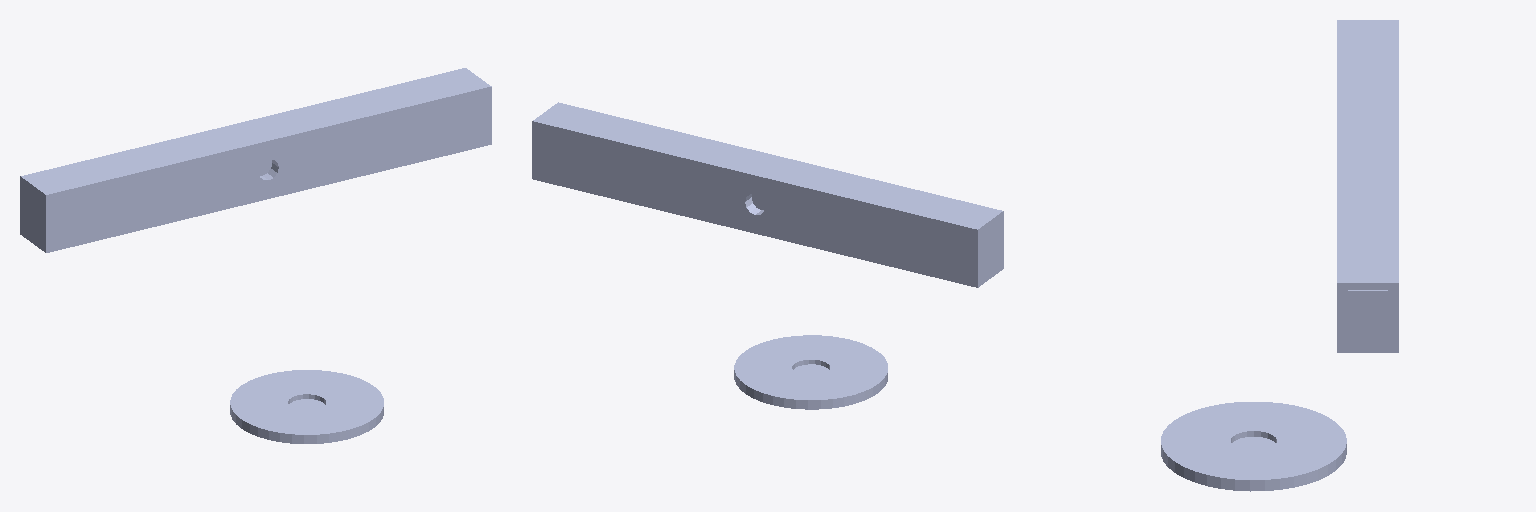
URDF robot description (my_robot):
<?xml version="1.0" encoding="utf-8"?>
<!-- This URDF was automatically created by SolidWorks to URDF Exporter! Originally created by Stephen Brawner (brawner@gmail.com) 
     Commit Version: 1.6.0-4-g7f85cfe  Build Version: 1.6.7995.38578
     For more information, please see http://wiki.ros.org/sw_urdf_exporter -->
<robot
  name="my_robot">
  <link
    name="base_link">

    <inertial>
      <origin xyz="5.16568556503433E-19 -4.60458746952657E-19 0.0" rpy="0 0 0" />
      <mass value="1.3695380474243" />
      <inertia
        ixx="0.00798224048922843"
        ixy="4.24520119437051E-20"
        ixz="3.85170665636634E-19"
        iyy="0.00798224048922843"
        iyz="-1.06545471371995E-18"
        izz="0.0158732496978437" />
    </inertial>

    <visual>
    <origin xyz="5.16568556503433E-19 -4.60458746952657E-19 0.0" rpy="0 0 0" />
      <geometry>
        <mesh filename="package://my_robot/meshes/base_link.STL" />
      </geometry>
      <material name="">
        <color rgba="0.792156862745098 0.819607843137255 0.933333333333333 1" />
      </material>
    </visual>

    <collision>
      <origin xyz="-0.17002715 -0.0709803 0.0" rpy="0 0 1.918018211259047" />
      <geometry>
        <mesh filename="package://my_robot/meshes/base_link.STL" />
      </geometry>
    </collision>

  </link>
  <link
    name="joint_1_link">

    <inertial>
      <origin xyz="-5.86783648976754E-17 -1.53295226370267E-18 0.318424334676381" rpy="0 0 0" />
      <mass value="2.74003858179814" />
      <inertia
        ixx="0.0777624850691793"
        ixy="-1.16823868514941E-18"
        ixz="1.5229497463543E-17"
        iyy="0.0748440805695645"
        iyz="5.63329203182507E-19"
        izz="0.00578039173555455" />
    </inertial>

    <visual>
      <origin
        xyz="0 0 0"
        rpy="0 0 0" />
      <geometry>
        <mesh filename="package://my_robot/meshes/joint_1_link.STL" />
      </geometry>
      <material
        name="">
        <color rgba="0.792156862745098 0.819607843137255 0.933333333333333 1" />
      </material>
    </visual>

    <collision>
      <origin
        xyz="0 0 0"
        rpy="0 0 0" />
      <geometry>
        <mesh
          filename="package://my_robot/meshes/joint_1_link.STL" />
      </geometry>
    </collision>
    
  </link>
  <joint
    name="joint_1_joint"
    type="revolute">
    <origin
      xyz="0 0 0"
      rpy="0 0 0" />
    <parent
      link="base_link" />
    <child
      link="joint_1_link" />
    <axis
      xyz="0 0 1" />
    <limit
      lower="0"
      upper="0"
      effort="0"
      velocity="0" />
  </joint>
  <link
    name="joint_2_link">
    <inertial>
      <origin
        xyz="-0.0794258655611035 -1.11022302462516E-15 -1.4598696371687E-15"
        rpy="0 0 0" />
      <mass
        value="9.82047843595601" />
      <inertia
        ixx="0.0234845916044865"
        ixy="-1.84453945201044E-16"
        ixz="-8.98849712331153E-17"
        iyy="0.720423041466822"
        iyz="-2.74191579692218E-18"
        izz="0.725137070966437" />
    </inertial>
    <visual>
      <origin
        xyz="0 0 0"
        rpy="0 0 0" />
      <geometry>
        <mesh
          filename="package://my_robot/meshes/joint_2_link.STL" />
      </geometry>
      <material
        name="">
        <color
          rgba="0.792156862745098 0.819607843137255 0.933333333333333 1" />
      </material>
    </visual>
    <collision>
      <origin
        xyz="0 0 0"
        rpy="0 0 0" />
      <geometry>
        <mesh
          filename="package://my_robot/meshes/joint_2_link.STL" />
      </geometry>
    </collision>
  </link>
  <joint
    name="joint_2_joint"
    type="revolute">
    <origin
      xyz="0 0 0.51"
      rpy="1.5708 0 0" />
    <parent
      link="joint_1_link" />
    <child
      link="joint_2_link" />
    <axis
      xyz="0 0 1" />
    <limit
      lower="0"
      upper="0"
      effort="0"
      velocity="0" />
  </joint>
  <link
    name="joint_3_link">
    <inertial>
      <origin
        xyz="-1.11022302462516E-16 -1.11009104039333E-14 0.2"
        rpy="0 0 0" />
      <mass
        value="2.6" />
      <inertia
        ixx="0.0355820833333333"
        ixy="-1.96360431846389E-20"
        ixz="-1.25004854084982E-17"
        iyy="0.0368333333333333"
        iyz="-9.60584348128384E-18"
        izz="0.00308208333333333" />
    </inertial>
    <visual>
      <origin
        xyz="0 0 0"
        rpy="0 0 0" />
      <geometry>
        <mesh
          filename="package://my_robot/meshes/joint_3_link.STL" />
      </geometry>
      <material
        name="">
        <color
          rgba="0.792156862745098 0.819607843137255 0.933333333333333 1" />
      </material>
    </visual>
    <collision>
      <origin
        xyz="0 0 0"
        rpy="0 0 0" />
      <geometry>
        <mesh
          filename="package://my_robot/meshes/joint_3_link.STL" />
      </geometry>
    </collision>
  </link>
  <joint
    name="joint_3_joint"
    type="prismatic">
    <origin
      xyz="0.1 0 0"
      rpy="1.5708 0 1.5708" />
    <parent
      link="joint_2_link" />
    <child
      link="joint_3_link" />
    <axis
      xyz="0 0 -1" />
    <limit
      lower="0"
      upper="0"
      effort="0"
      velocity="0" />
  </joint>
  <link
    name="ee_link">
    <inertial>
      <origin
        xyz="-0.0731948336829637 -1.12302996823185E-14 -0.5"
        rpy="0 0 0" />
      <mass
        value="16.5300550651784" />
      <inertia
        ixx="1.07361094137122"
        ixy="1.42421419252305E-16"
        ixz="2.18444017298924E-16"
        iyy="1.49535764239834"
        iyz="-1.11573144420206E-16"
        izz="0.466920142398336" />
    </inertial>
  </link>
  <joint
    name="ee_joint"
    type="fixed">
    <origin
      xyz="0 0 0.4"
      rpy="0 0 0" />
    <parent
      link="joint_3_link" />
    <child
      link="ee_link" />
    <axis
      xyz="0 0 0" />
  </joint>
</robot>

--- What the picture shows (computed from the rendered views, not written in the file) ---
The picture shows the robot from 3 angles, left to right: view 1: azimuth 30°, elevation 25°; view 2: azimuth 150°, elevation 25°; view 3: azimuth 270°, elevation 25°; orthographic projection.
Model my_robot with 5 links and 4 joints (2 revolute, 1 prismatic, 1 fixed), rooted at base_link, posed every joint at zero.
Visible links, largest first — view 1: joint_2_link, base_link; view 2: joint_2_link, base_link; view 3: joint_2_link, base_link, joint_3_link.
Boxes of the visible links, <box> form: joint_2_link: <box>20,68,491,252</box>; base_link: <box>230,370,383,443</box>; joint_2_link: <box>532,102,1003,287</box>; base_link: <box>734,335,887,409</box>; joint_2_link: <box>1337,20,1398,352</box>; base_link: <box>1161,402,1346,491</box>; joint_3_link: <box>1348,290,1387,346</box>.
Bounding box of the posed robot: 1 × 0.384 × 0.5292 m (x, y, z).
Meshes: 4 distinct files referenced, 3 mesh visuals loaded (3 binary STL); not drawn: 1 (reference not matched to a file when rendering).
